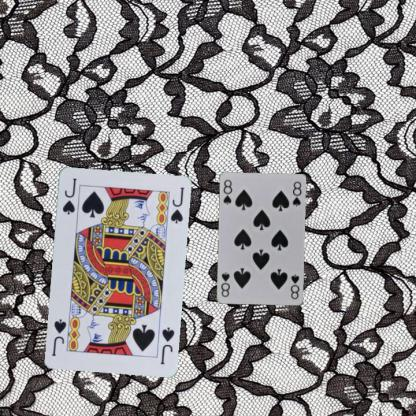8s: (288, 272, 301, 301), (221, 177, 234, 206)
Js: (60, 175, 78, 216), (158, 324, 175, 365)
